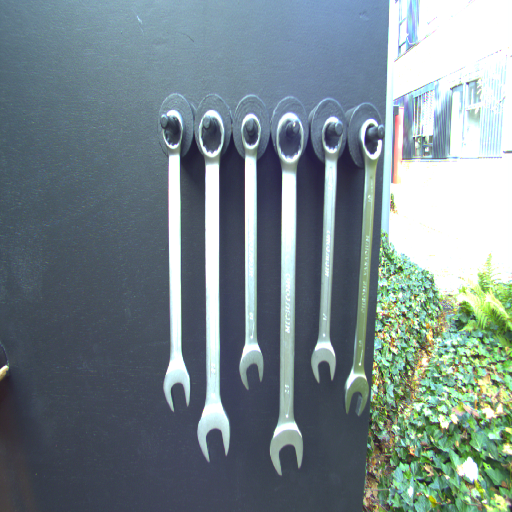bottom: (268, 421, 307, 478), (196, 406, 233, 463), (161, 360, 194, 412), (238, 341, 265, 392), (309, 338, 337, 387), (342, 369, 368, 415)
top: (156, 105, 187, 155), (198, 108, 226, 162), (276, 112, 303, 168), (358, 118, 385, 166), (319, 114, 345, 159), (238, 112, 263, 156)
